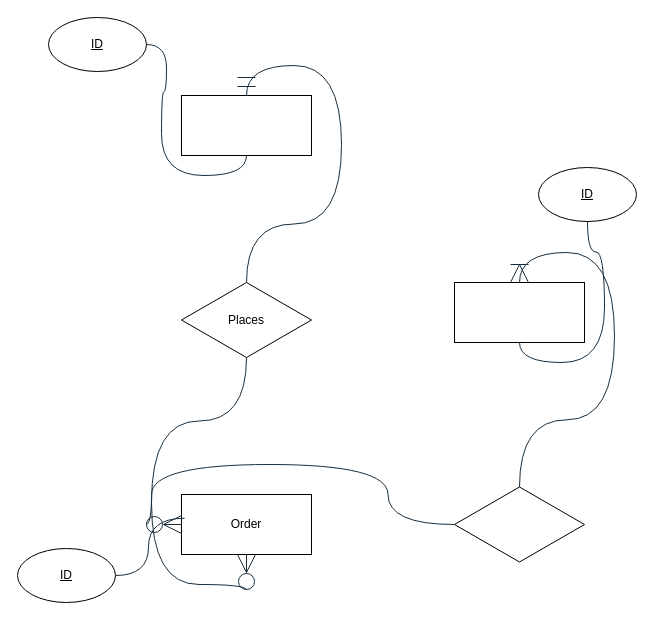
The diagram is 654 pixels wide and 620 high, and some of its shapes have lost their labels. Each missing label, with the box of its shape:
Contains: (454, 486, 584, 562)
Customer: (180, 94, 312, 156)
Product: (454, 282, 584, 342)
